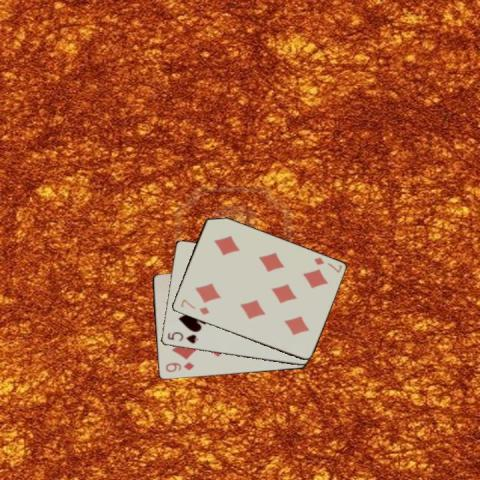5s: (165, 328, 199, 344)
7d: (177, 296, 211, 316), (310, 254, 342, 275)
9d: (163, 359, 196, 374)
